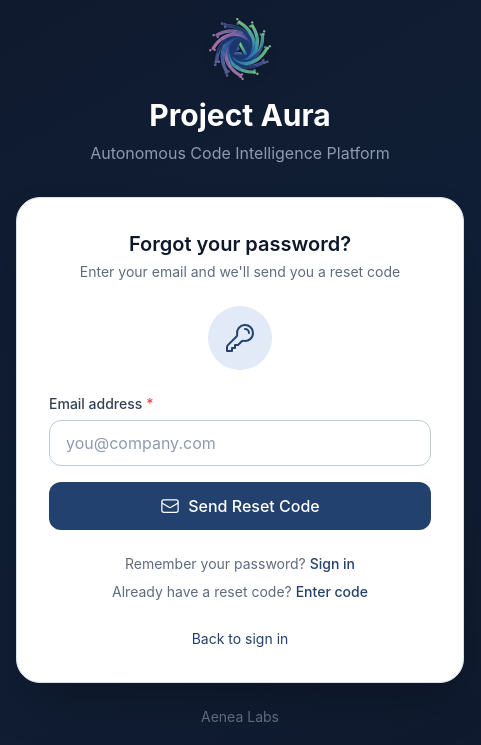
Test: ForgotPasswordPage › shows success message after submission
In the field labelled "Email address*": (240, 443) [49,420,431,466], type "test@example.com"
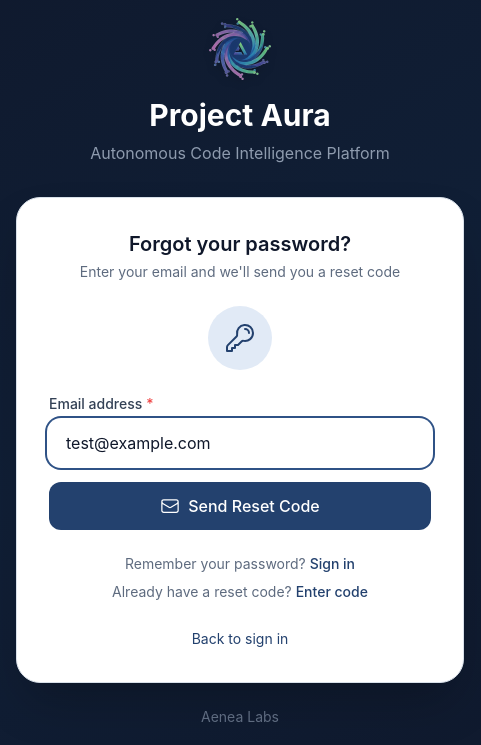
Click the button "Send Reset Code": (240, 506) [49,482,431,530]
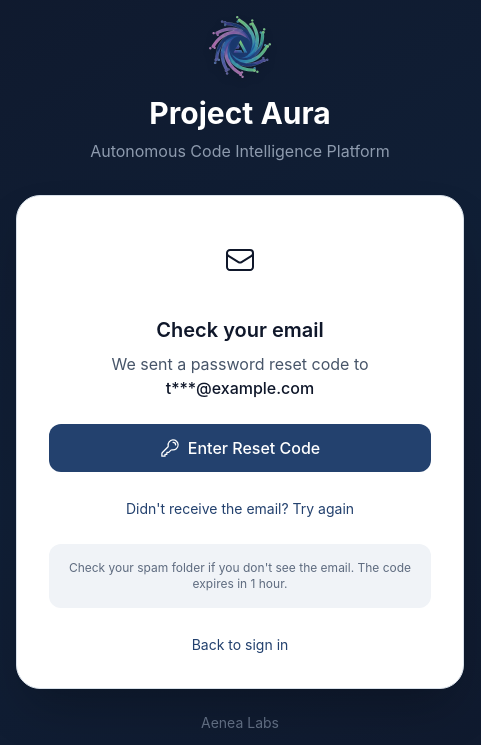
Expected: the heading "Check your email" is shown, [156,318,324,342]
